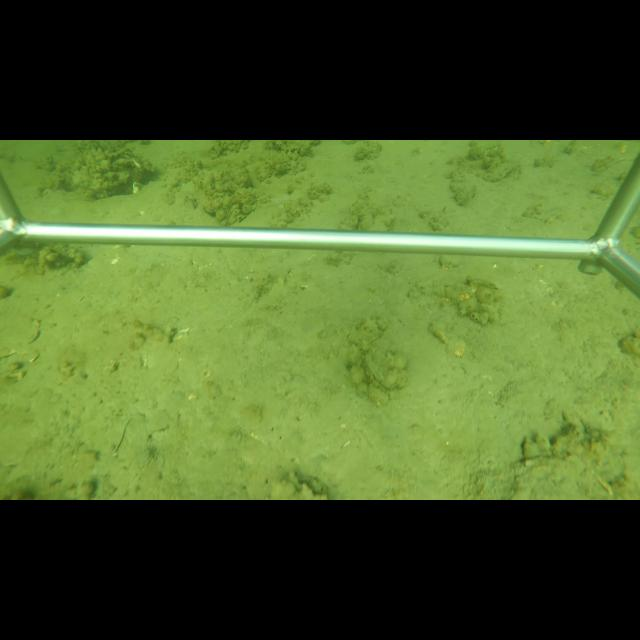Oyster-Closed: (362, 335, 402, 391), (482, 160, 517, 182)
